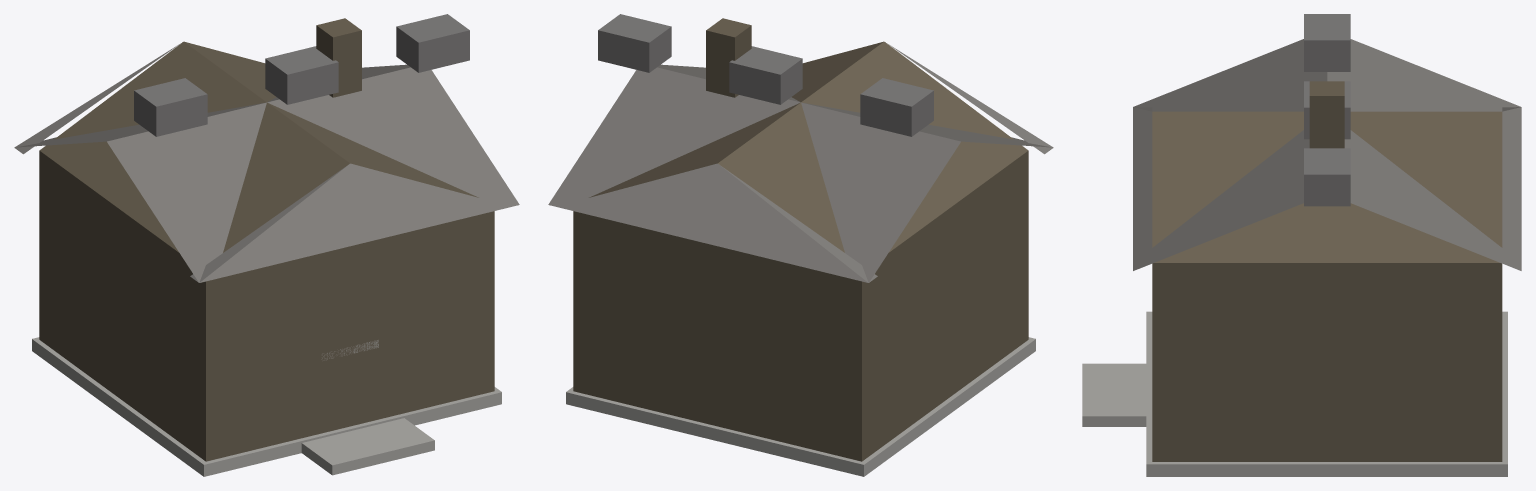
File: b_house1.glb
3 renders of one model, left to right at view 1: azimuth 30°, elevation 25°; view 2: azimuth 150°, elevation 25°; view 3: azimuth 270°, elevation 25°, orthographic. The views are drawn at different scales.
Visible parts, largest first — view 1: Building; view 2: Building; view 3: Building.
Boxes of the visible parts, left/top/right/bottom form: Building: left=14, top=14, right=519, bottom=476; Building: left=548, top=14, right=1053, bottom=476; Building: left=1082, top=14, right=1521, bottom=476.
Size of the model in its own units: 10.98 by 9.9 by 11.3.
Materials: 6 (2 with a texture image).
